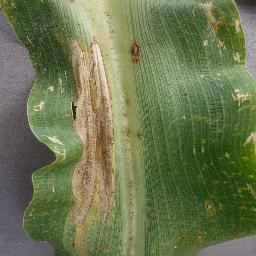Corn_Blight: (62, 37, 110, 256), (195, 156, 256, 247), (197, 0, 244, 62), (30, 171, 58, 236), (31, 77, 54, 115), (123, 38, 145, 66), (174, 229, 196, 256), (41, 132, 62, 159), (230, 88, 256, 107), (0, 0, 19, 24), (122, 97, 130, 145), (187, 111, 219, 123), (211, 126, 242, 138), (243, 128, 256, 152), (65, 0, 85, 10), (24, 34, 35, 51), (136, 127, 145, 146)
